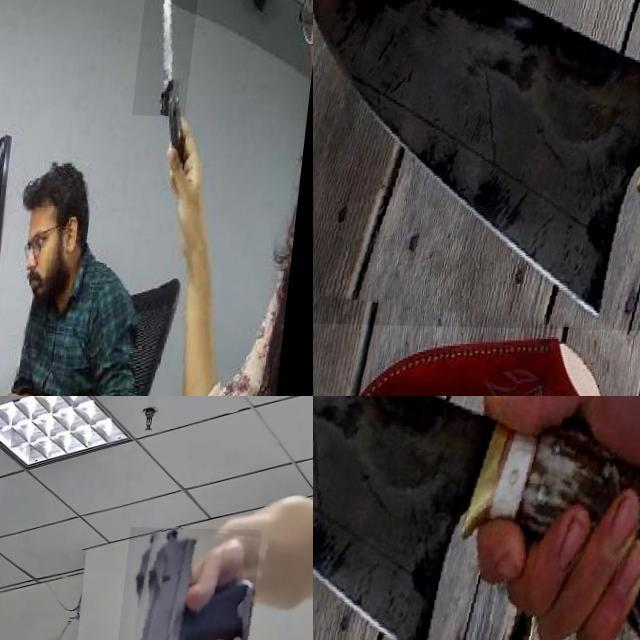-: (313, 0, 640, 330), (313, 396, 640, 640), (136, 0, 203, 113)
gun-knife-thesis - v11 Yolov5 augmented: (106, 525, 267, 640)
